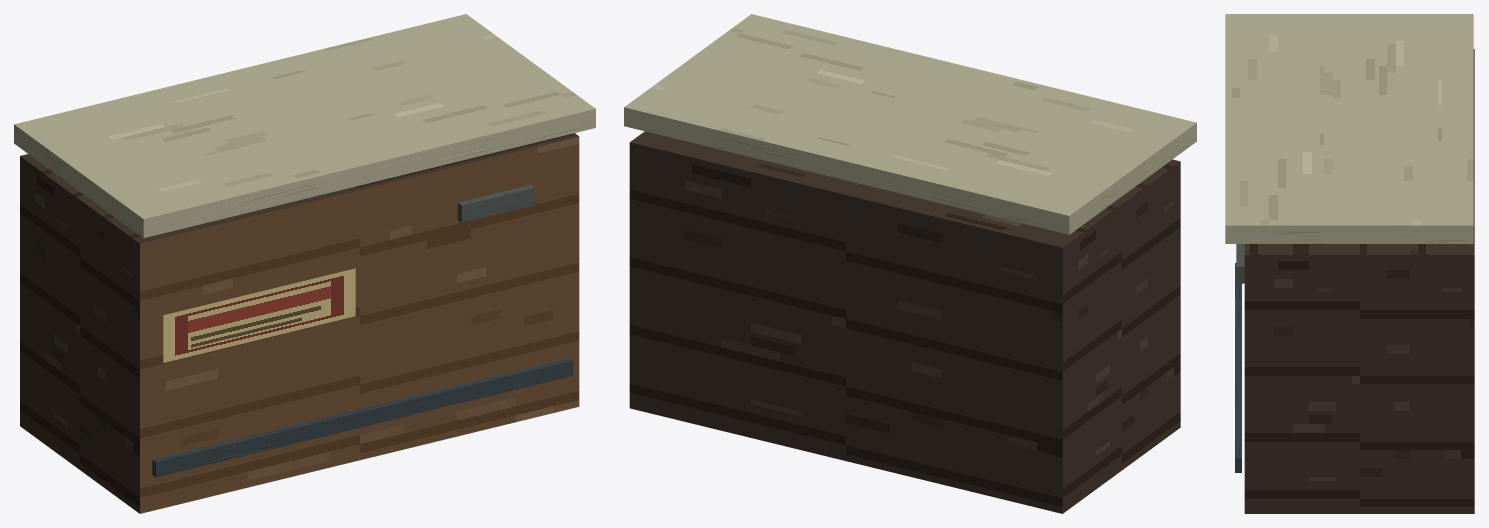
File: mostrador_caja_c02.glb
3 views of the same model, side by side, from view 1: azimuth 30°, elevation 25°; view 2: azimuth 150°, elevation 25°; view 3: azimuth 270°, elevation 25° (orthographic). The views are drawn at different scales.
Parts seen in each view (by area): view 1: mostrador_caja_c02; view 2: mostrador_caja_c02; view 3: mostrador_caja_c02.
Part boxes in pixels (x1,y1,x2,y2): mostrador_caja_c02: (14,14,595,513); mostrador_caja_c02: (624,14,1196,513); mostrador_caja_c02: (1225,14,1474,513).
Bounding box in the file's own units: 1.51 × 0.9662 × 0.7498.
Materials: 1 (1 with a texture image).
